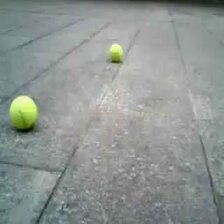tennis: (10, 97, 36, 127), (108, 44, 124, 60)
